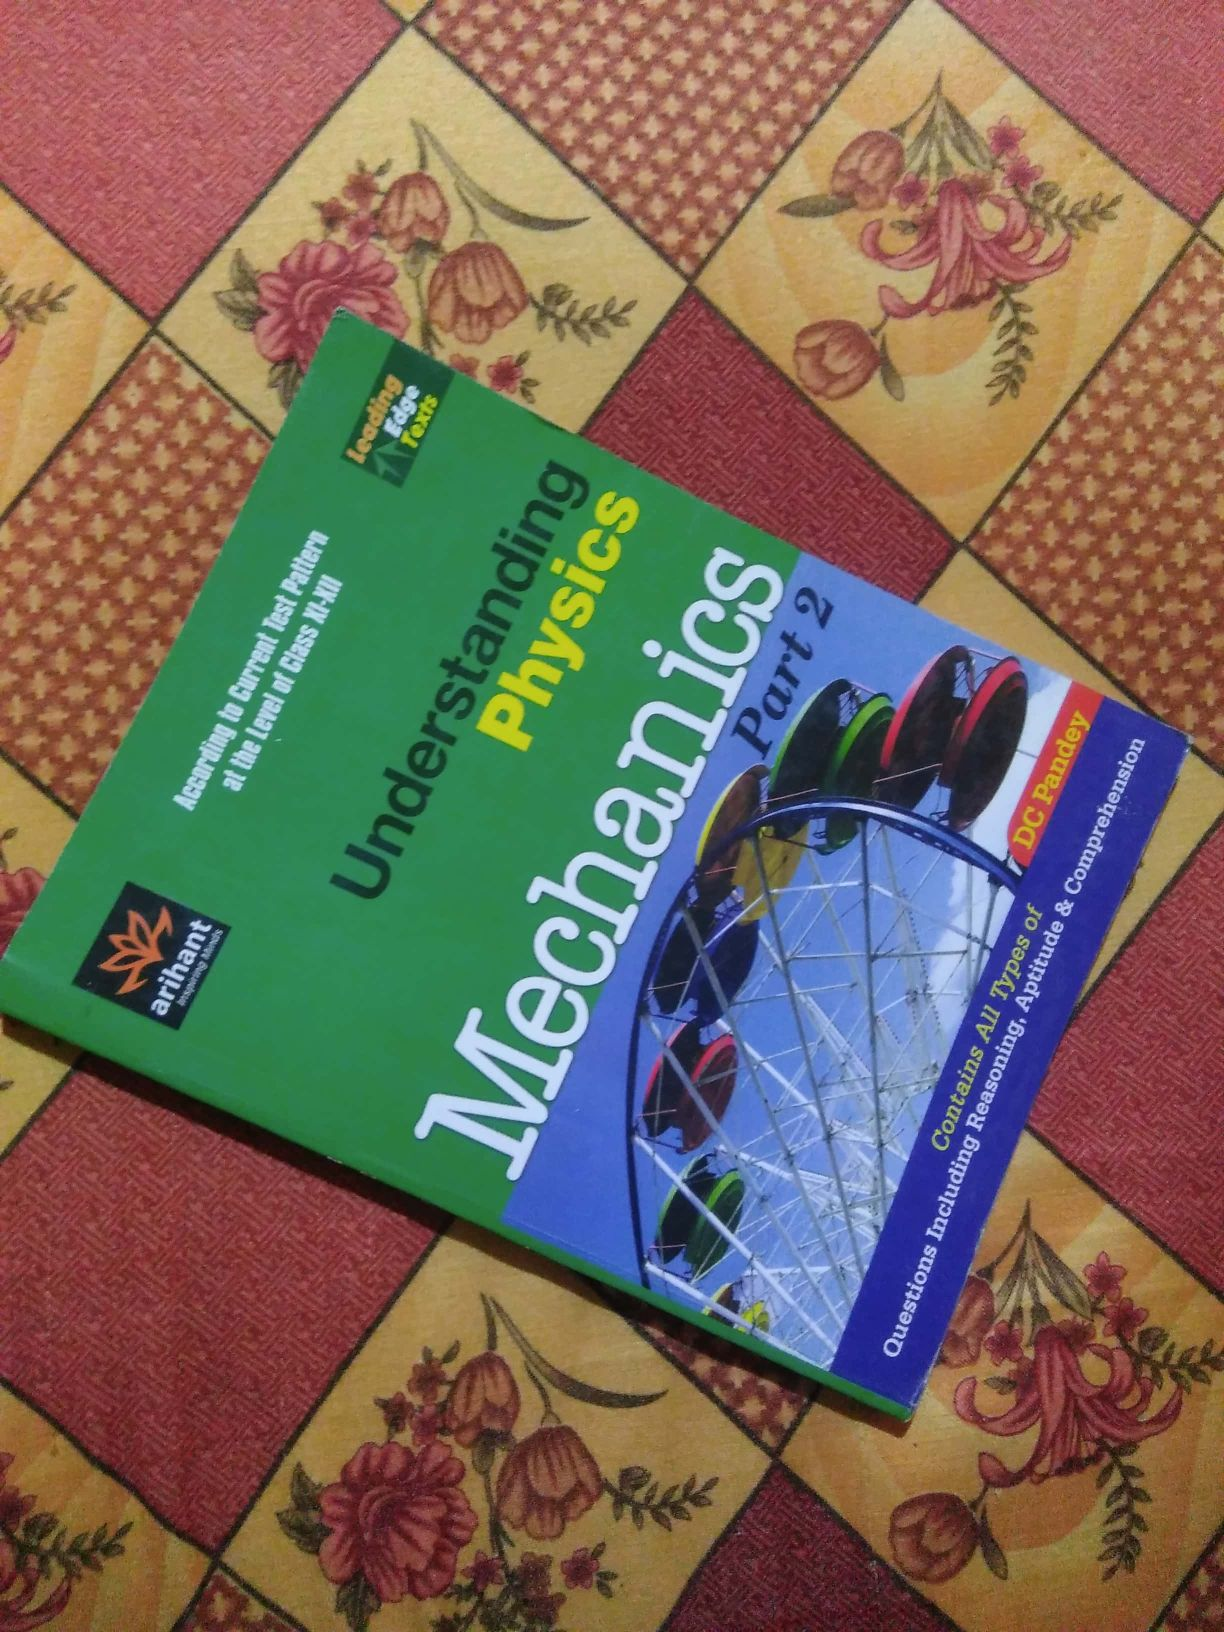mechanics: (54, 326, 1146, 1434)
